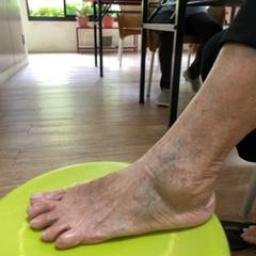Lateral View -Left Foot-: (13, 122, 236, 252)
